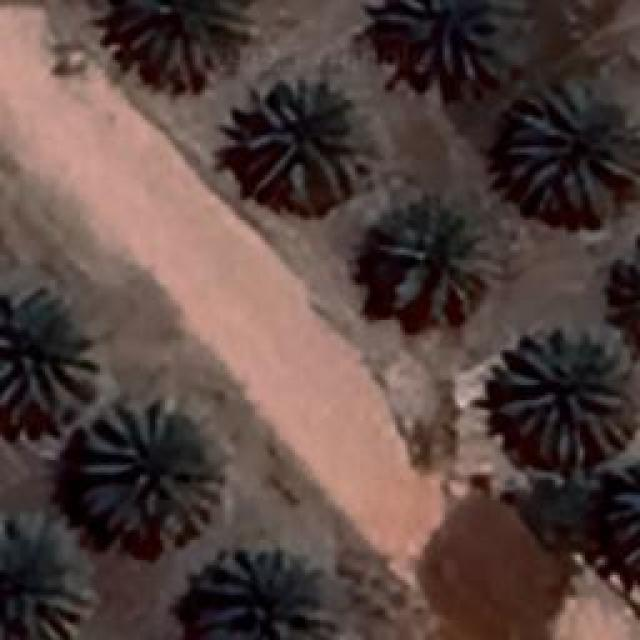PalmTree: (28, 115, 622, 506), (30, 98, 626, 298), (78, 400, 222, 542), (490, 328, 628, 462), (235, 82, 370, 210), (502, 82, 632, 210), (380, 205, 505, 320), (188, 544, 330, 638), (0, 510, 95, 638), (0, 300, 95, 410), (120, 0, 245, 80), (380, 0, 505, 78)
